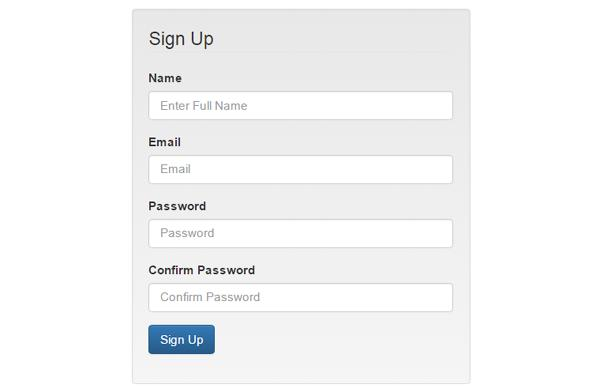button: (144, 322, 224, 359)
textbox: (143, 214, 460, 252), (144, 278, 457, 316), (144, 154, 456, 185), (141, 90, 457, 120)
